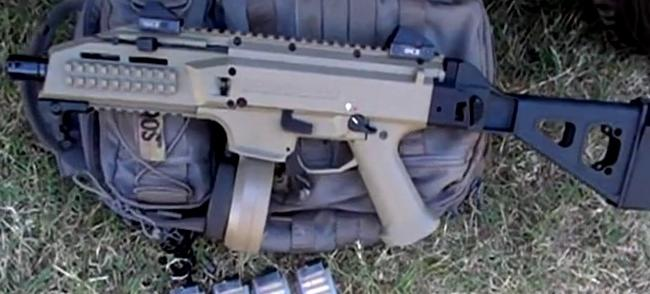gun: (1, 0, 650, 294)
